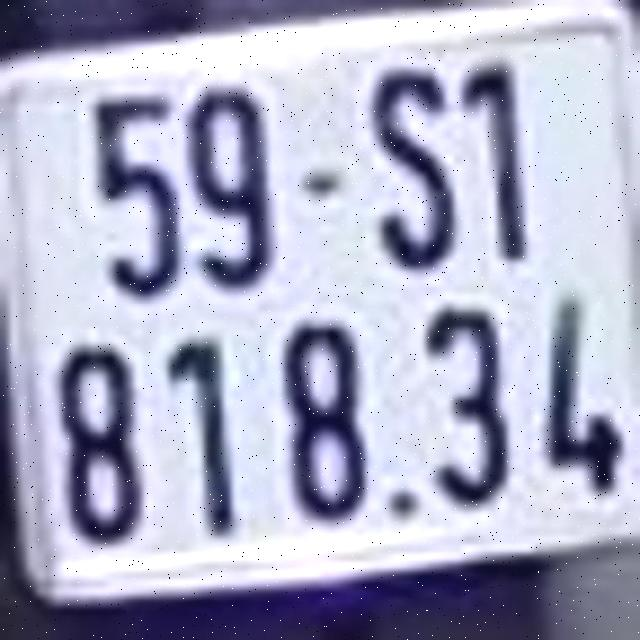1: (462, 54, 546, 267), (166, 334, 242, 537)
3: (420, 293, 514, 509)
4: (537, 286, 629, 499)
5: (88, 89, 184, 301)
8: (282, 313, 369, 524), (57, 340, 144, 548)
9: (187, 82, 276, 293)
S: (366, 59, 458, 274)
